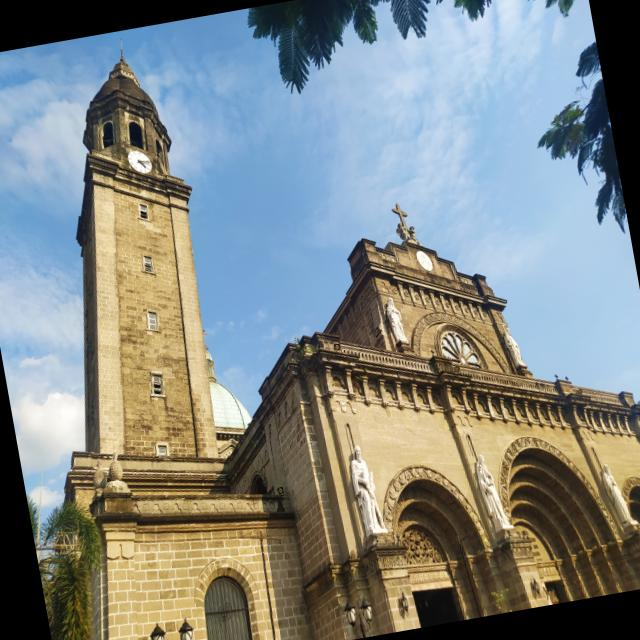Manila Cathedral: (59, 37, 640, 640)
